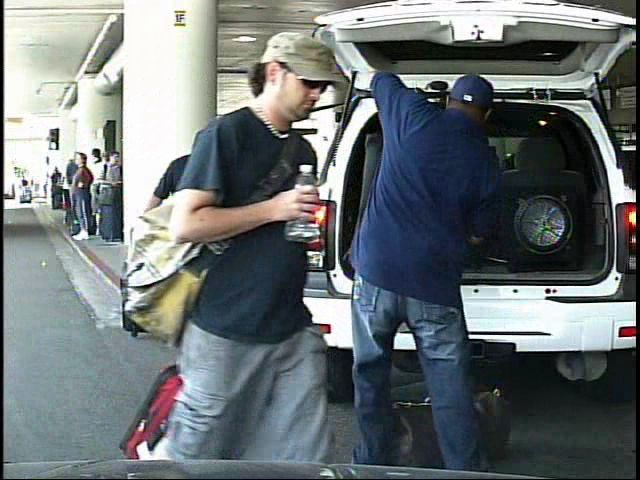person: (160, 20, 349, 480), (334, 33, 529, 478), (129, 124, 248, 353), (13, 174, 24, 205)
